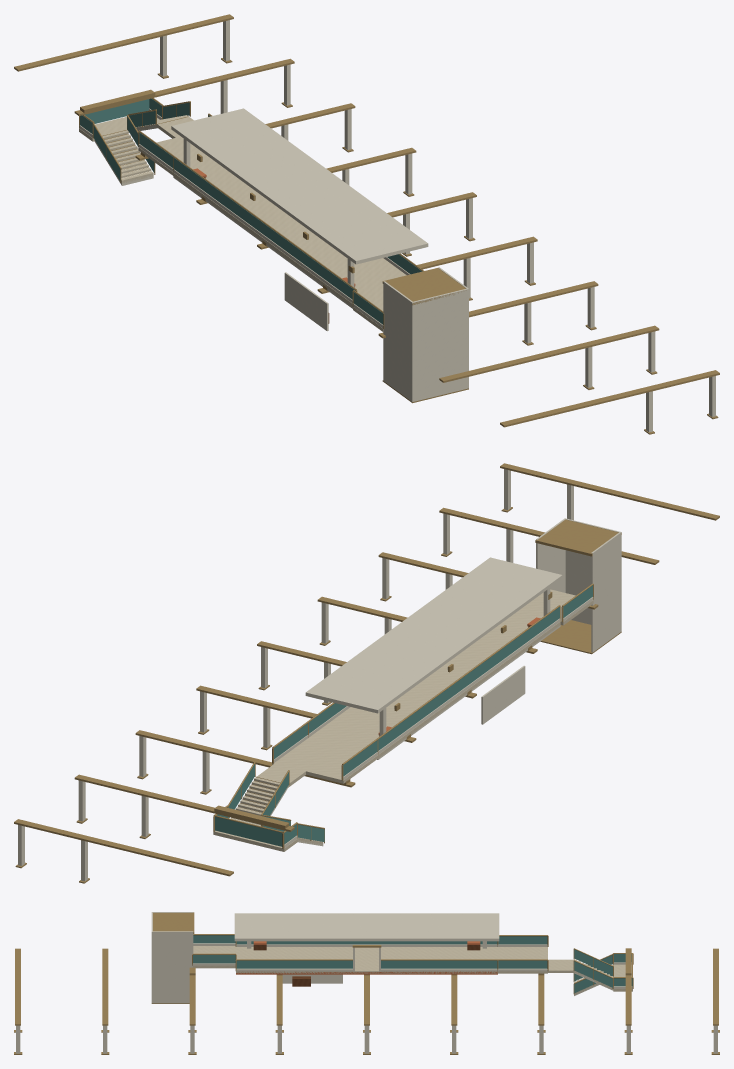
File: AST-TRM-G4-010_fore_midship_source.glb
The picture shows the model from 3 angles, top to bottom: view 1: azimuth 30°, elevation 25°; view 2: azimuth 150°, elevation 25°; view 3: azimuth 270°, elevation 25°; orthographic projection. The views are drawn at different scales.
Parts seen in each view (by area): view 1: V2__Canopy_Profiled_Crown, V2__BoardingLift_Rear, V2__Boarding_Island_24m, V2__BoardingLift_HousingSide_-7.7, V2__Port_Edge_infill, V2__BoardingLift_Header, V2_Foremid_OuterPort_Beam_8, V2_Foremid_OuterPort_Beam_0, V2_Foremid_OuterPort_Beam_7, V2__Guest_Waiting_Screen, V2_Foremid_OuterPort_Beam_1, V2_Foremid_OuterPort_Beam_6 (+4 smaller); view 2: V2__Canopy_Profiled_Crown, V2__Boarding_Island_24m, V2__BoardingLift_HousingSide_-7.7, V2__Emergency_TopApproach, V2__Port_Edge_infill, V2__BoardingLift_Header, V2__BoardingLift_Rear, V2_Foremid_OuterPort_Beam_0, V2_Foremid_OuterPort_Beam_8, V2__Guest_Waiting_Screen, V2__BoardingLift_PitPan, V2_Foremid_OuterPort_Beam_1 (+7 smaller); view 3: V2__Canopy_Profiled_Crown, V2__Boarding_Island_24m, V2__BoardingLift_HousingSide_-3.5, V2__Tram_NorthGuard_infill, V2__Tram_SouthGuard_infill, V2__Port_Edge_infill, V2__BoardingLift_Header, V2__Emergency_TopApproach, V2__Platform_InnerFascia, V2__Port_Edge_foot, V2_Foremid_OuterPort_Beam_7, V2__BoardingLift_UpperLanding (+18 smaller).
Part boxes in pixels (x1,y1,x2,y2): V2__Canopy_Profiled_Crown: (171, 108, 428, 264); V2__BoardingLift_Rear: (411, 288, 468, 401); V2__Boarding_Island_24m: (173, 162, 406, 306); V2__BoardingLift_HousingSide_-7.7: (383, 281, 412, 401); V2__Port_Edge_infill: (174, 158, 355, 299); V2__BoardingLift_Header: (382, 267, 466, 305); V2_Foremid_OuterPort_Beam_8: (500, 370, 719, 427); V2_Foremid_OuterPort_Beam_0: (14, 14, 233, 71); V2_Foremid_OuterPort_Beam_7: (439, 325, 659, 382); V2__Guest_Waiting_Screen: (284, 272, 328, 331); V2_Foremid_OuterPort_Beam_1: (74, 58, 294, 115); V2_Foremid_OuterPort_Beam_6: (378, 281, 598, 338); V2__Canopy_Profiled_Crown: (305, 557, 562, 713); V2__Boarding_Island_24m: (309, 611, 560, 757); V2__BoardingLift_HousingSide_-7.7: (591, 532, 620, 652); V2__Emergency_TopApproach: (272, 738, 378, 783); V2__Port_Edge_infill: (378, 607, 559, 750); V2__BoardingLift_Header: (535, 519, 621, 556); V2__BoardingLift_Rear: (564, 518, 621, 631); V2_Foremid_OuterPort_Beam_0: (14, 819, 233, 876); V2_Foremid_OuterPort_Beam_8: (500, 463, 719, 520); V2__Guest_Waiting_Screen: (481, 665, 525, 724); V2__BoardingLift_PitPan: (540, 620, 621, 654); V2_Foremid_OuterPort_Beam_1: (74, 774, 294, 831); V2__Canopy_Profiled_Crown: (234, 913, 499, 941); V2__Boarding_Island_24m: (236, 947, 497, 973); V2__BoardingLift_HousingSide_-3.5: (152, 931, 193, 1003); V2__Tram_NorthGuard_infill: (381, 960, 497, 968); V2__Tram_SouthGuard_infill: (236, 960, 352, 968); V2__Port_Edge_infill: (236, 941, 497, 944); V2__BoardingLift_Header: (153, 912, 194, 933); V2__Emergency_TopApproach: (498, 947, 547, 973); V2__Platform_InnerFascia: (236, 971, 497, 974); V2__Port_Edge_foot: (236, 944, 497, 946); V2_Foremid_OuterPort_Beam_7: (102, 948, 108, 1025); V2__BoardingLift_UpperLanding: (192, 946, 235, 968).
Size of the model in its own units: 16.4 by 7.3 by 64.75.
Materials: 6 (4 with a texture image).
